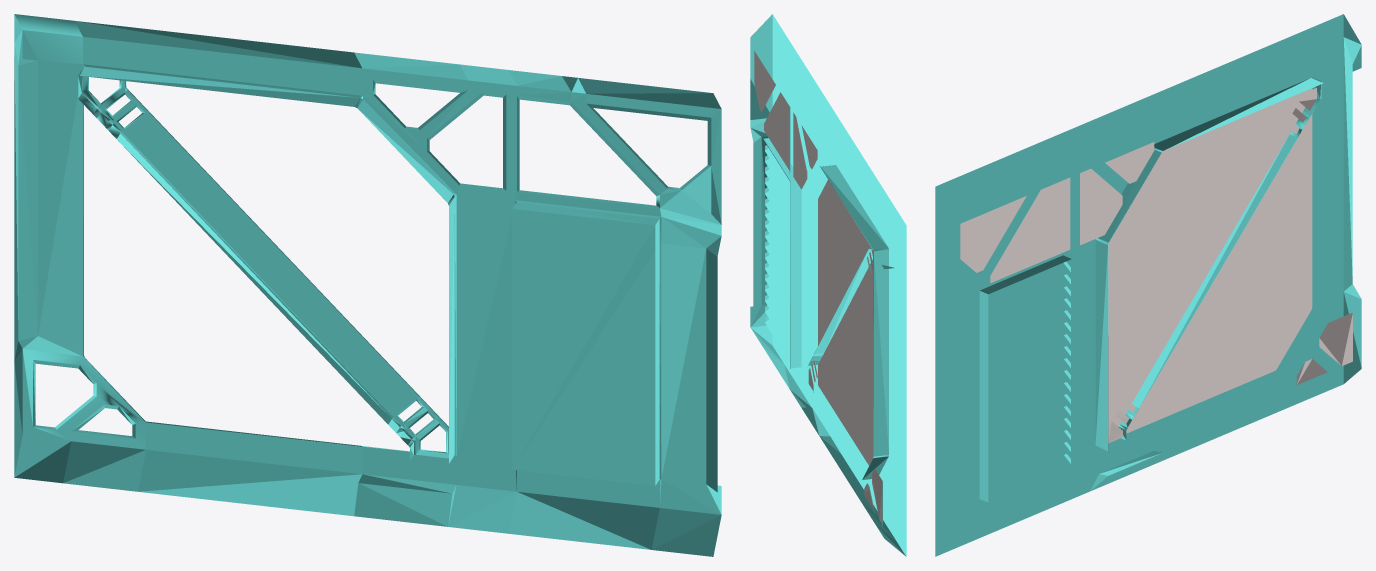
File: uee_stanton_kit_ext_wall_0x8x8_45d_04m_reg.glb
3 views of the same model, side by side, from view 1: azimuth 30°, elevation 25°; view 2: azimuth 150°, elevation 25°; view 3: azimuth 270°, elevation 25° (orthographic). The views are drawn at different scales.
Bounding box in the file's own units: 8.35 × 8 × 8.35.
